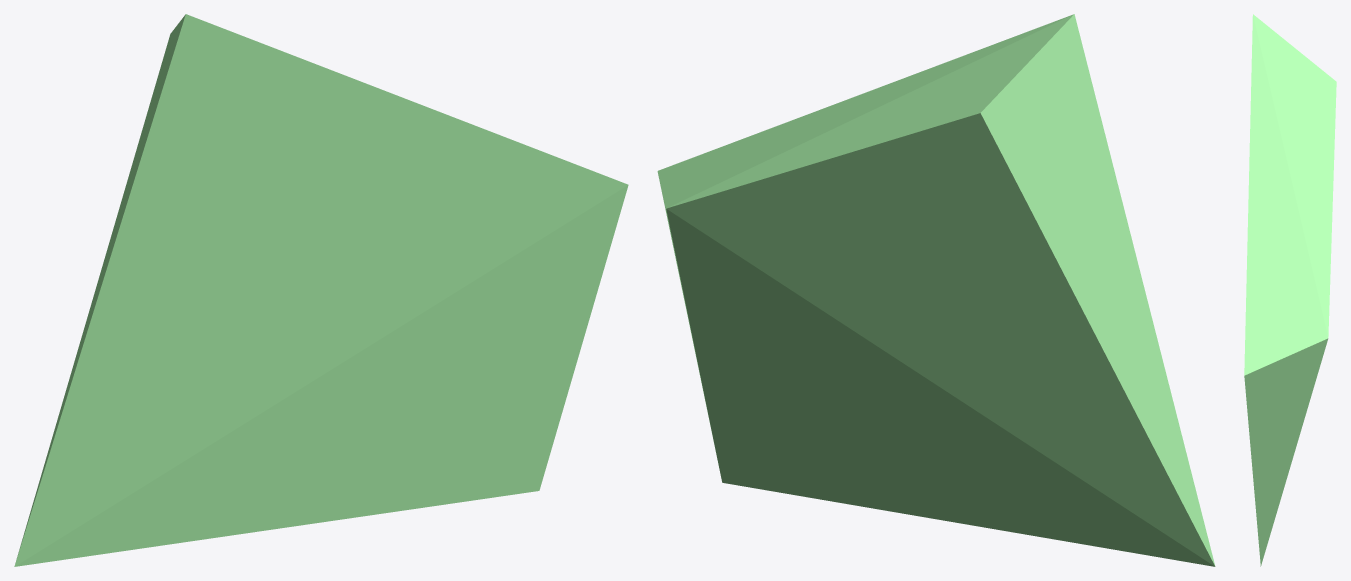
Rendered from linkhou_LR4_R560_link2_respondable_coll_28.dae.
3 views of the same model, side by side, from view 1: azimuth 30°, elevation 25°; view 2: azimuth 150°, elevation 25°; view 3: azimuth 270°, elevation 25° (orthographic). The views are drawn at different scales.
Visible parts, largest first — view 1: Node_00000209DB3AA780; view 2: Node_00000209DB3AA780; view 3: Node_00000209DB3AA780.
Part boxes in pixels (x1,y1,x2,y2): Node_00000209DB3AA780: [14, 14, 628, 566]; Node_00000209DB3AA780: [657, 14, 1215, 566]; Node_00000209DB3AA780: [1244, 14, 1336, 566].
Size of the model in its own units: 0.0416 by 0.038 by 0.00752.
